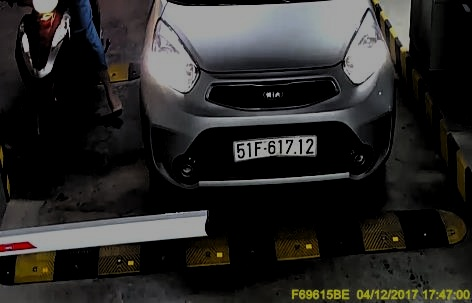plate: (230, 131, 322, 164)
